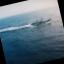fishing boat: (30, 14, 53, 28)
